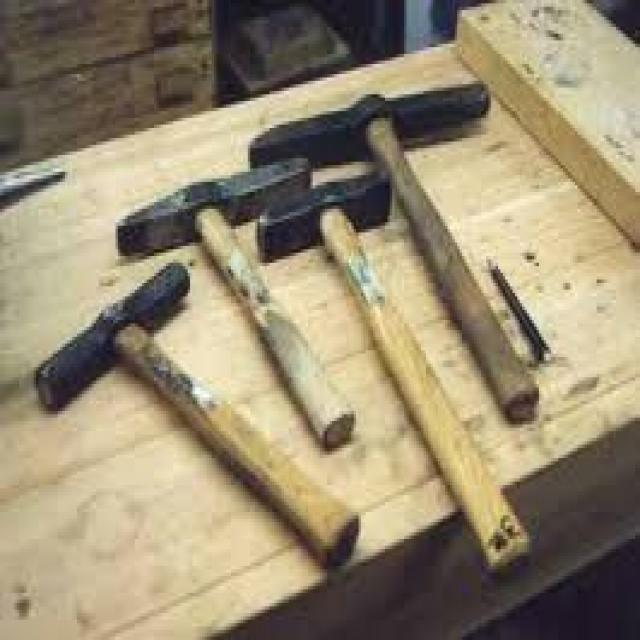hammer: (256, 167, 536, 588), (26, 258, 361, 578), (247, 78, 548, 424), (112, 154, 362, 452)
